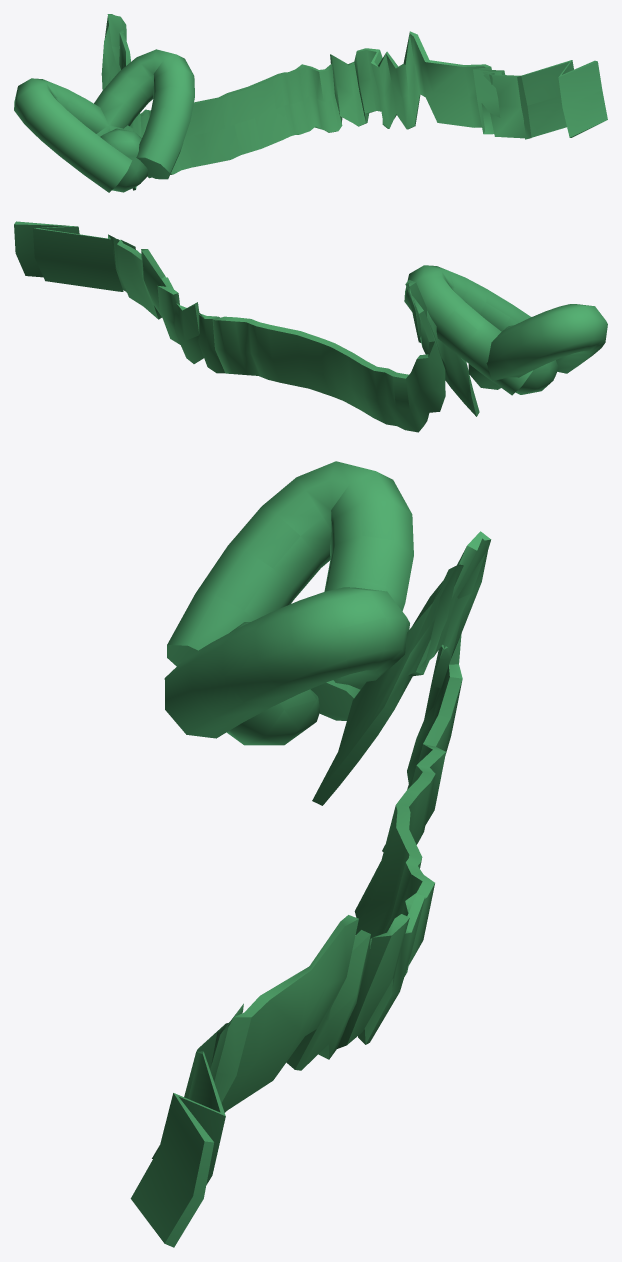
File: frost_gift_ribbon_c.glb
The picture shows the model from 3 angles, top to bottom: view 1: azimuth 30°, elevation 25°; view 2: azimuth 150°, elevation 25°; view 3: azimuth 270°, elevation 25°; orthographic projection. The views are drawn at different scales.
Visible parts, largest first — view 1: frost_gift_ribbon_c; view 2: frost_gift_ribbon_c; view 3: frost_gift_ribbon_c.
Boxes of the visible parts, x1,y1,x2,y2 form: frost_gift_ribbon_c: (14, 14, 607, 192); frost_gift_ribbon_c: (14, 221, 607, 432); frost_gift_ribbon_c: (130, 461, 491, 1247).
Size of the model in its own units: 8.78 by 2.35 by 2.5.
